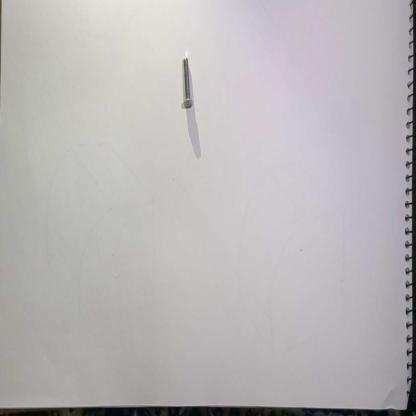Bolts: (181, 53, 195, 115)
